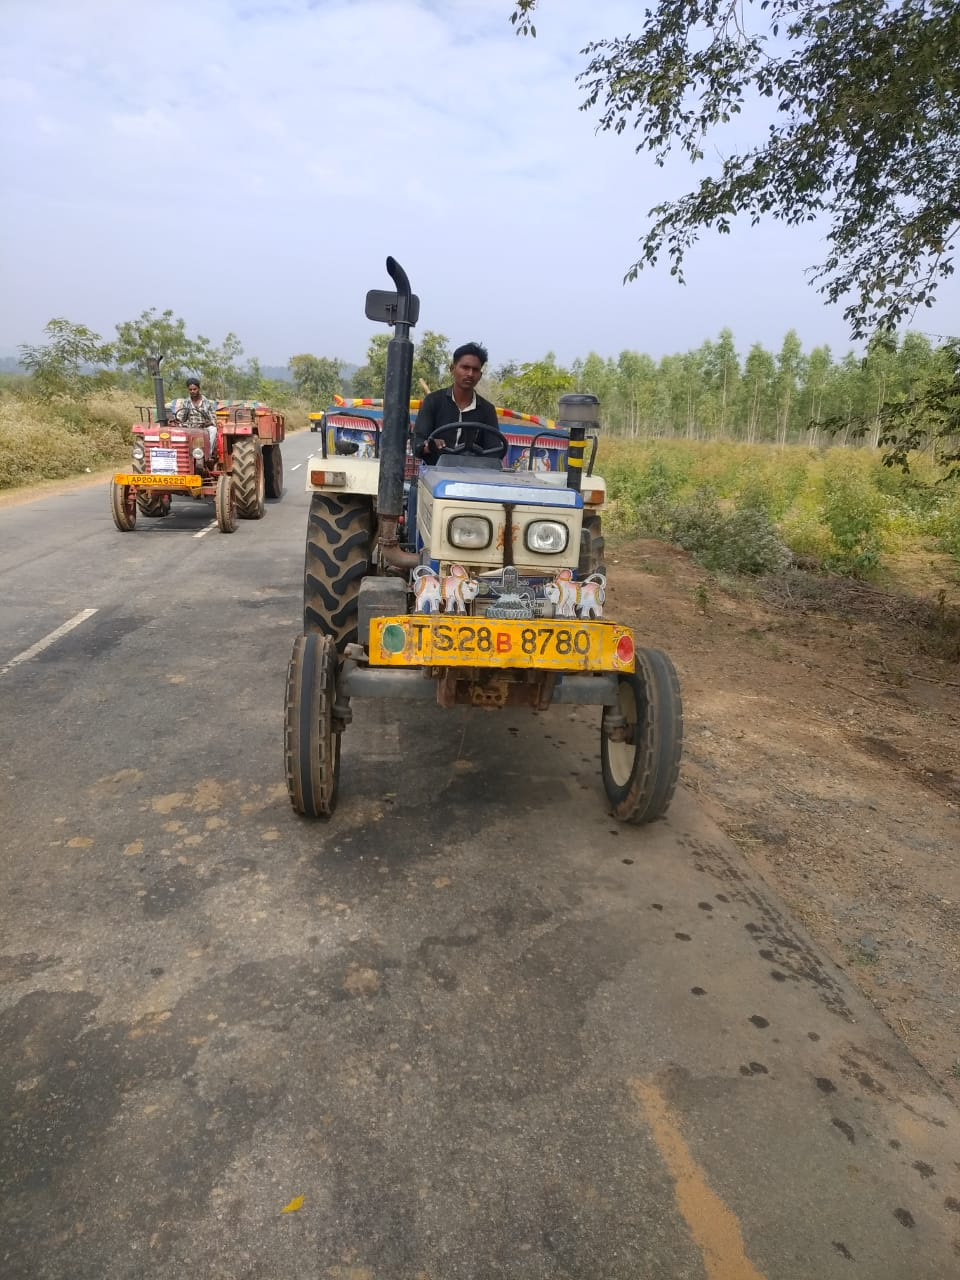license_plate: (404, 617, 598, 674)
